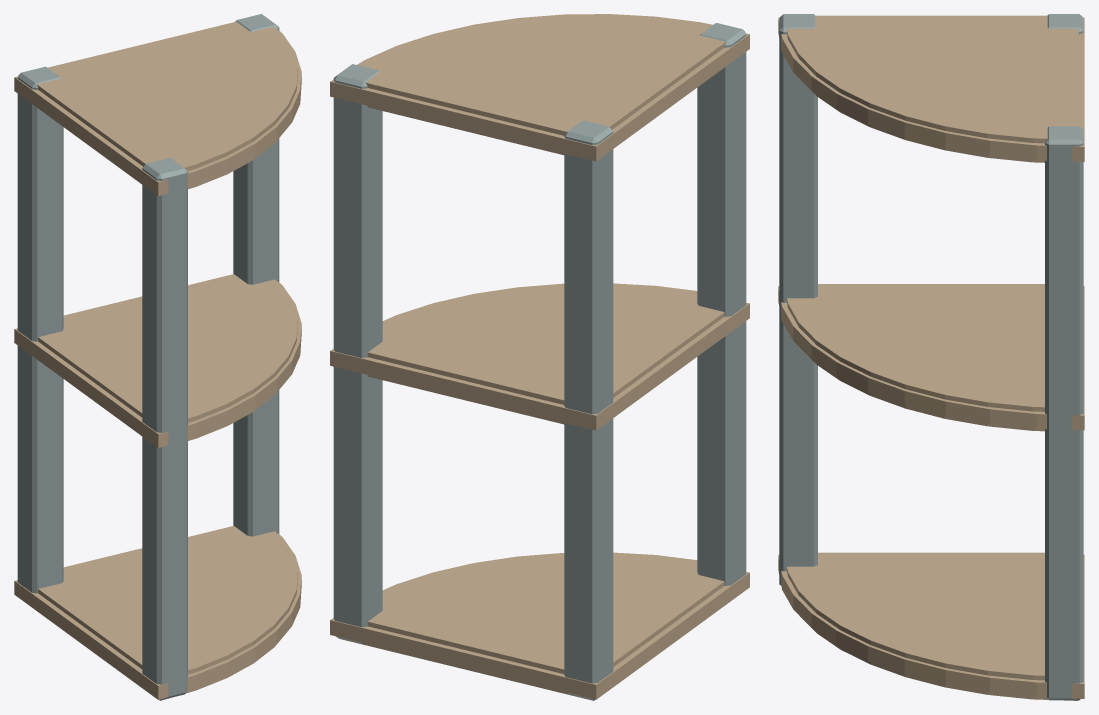
Rendered from fitted-kitchen-and-bathroom-builder-curved-end-shelf-0a5a471a__17853.glb.
The picture shows the model from 3 angles, left to right: view 1: azimuth 30°, elevation 25°; view 2: azimuth 150°, elevation 25°; view 3: azimuth 270°, elevation 25°; orthographic projection. The views are drawn at different scales.
Parts seen in each view (by area): view 1: curved-end-shelf; view 2: curved-end-shelf; view 3: curved-end-shelf.
Part boxes in pixels (x1,y1,x2,y2): curved-end-shelf: [14, 14, 301, 700]; curved-end-shelf: [330, 14, 749, 700]; curved-end-shelf: [778, 14, 1084, 700].
Size of the model in its own units: 0.3 by 0.6072 by 0.3.
